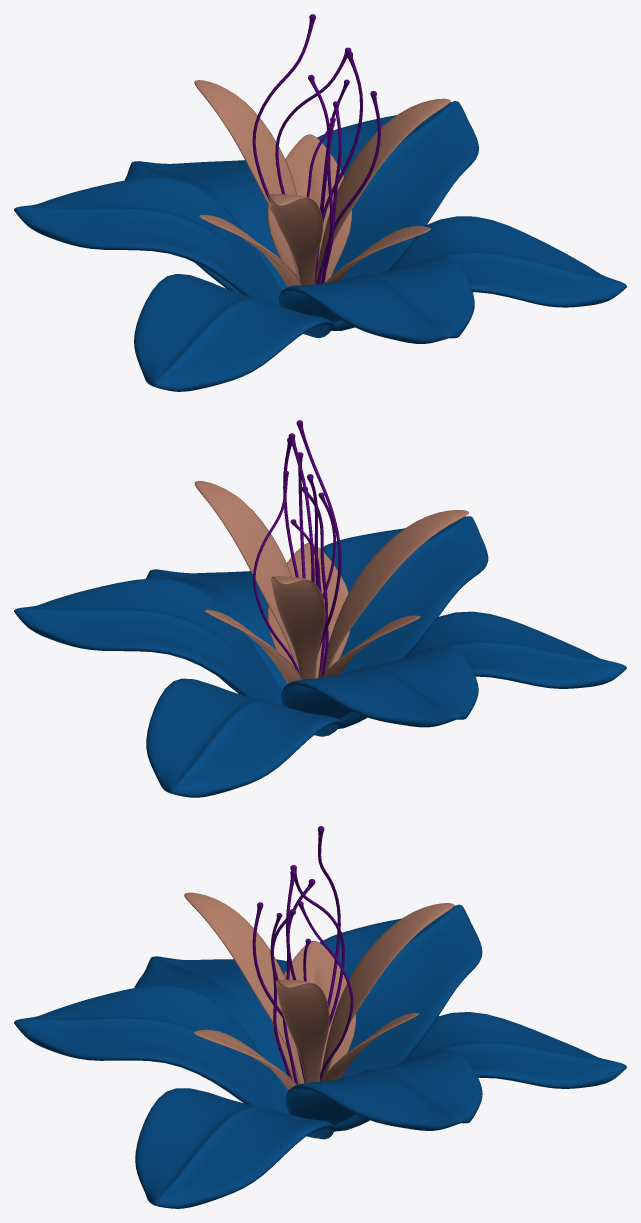
The model's file is flower.gltf.
3 views of the same model, one above another, from view 1: azimuth 30°, elevation 25°; view 2: azimuth 150°, elevation 25°; view 3: azimuth 270°, elevation 25° (orthographic).
Parts seen in each view (by area): view 1: Plane.007, Plane.006, Plane.003, Plane.004, Plane.005, Plane, Plane.002, Plane.010, Plane.001, Plane.011, Vert.001, Vert (+3 smaller); view 2: Plane.003, Plane, Plane.005, Plane.007, Plane.006, Plane.011, Plane.010, Plane.004, Plane.002, Plane.008, Vert, Vert.001 (+3 smaller); view 3: Plane.005, Plane.004, Plane.007, Plane.003, Plane, Plane.006, Plane.011, Plane.002, Plane.010, Plane.009, Vert.001, Vert (+3 smaller).
Part boxes in pixels (x1=…): Plane.007: x1=14, y1=177, x2=282, y2=306; Plane.006: x1=134, y1=274, x2=333, y2=391; Plane.003: x1=317, y1=101, x2=478, y2=280; Plane.004: x1=331, y1=216, x2=626, y2=330; Plane.005: x1=278, y1=257, x2=474, y2=343; Plane: x1=124, y1=160, x2=287, y2=293; Plane.002: x1=194, y1=80, x2=299, y2=278; Plane.010: x1=315, y1=98, x2=450, y2=284; Plane.001: x1=267, y1=134, x2=351, y2=282; Plane.011: x1=268, y1=194, x2=323, y2=285; Vert.001: x1=275, y1=47, x2=380, y2=284; Vert: x1=252, y1=14, x2=362, y2=282; Plane.003: x1=14, y1=578, x2=282, y2=705; Plane: x1=146, y1=678, x2=340, y2=797; Plane.005: x1=323, y1=516, x2=488, y2=673; Plane.007: x1=281, y1=645, x2=478, y2=727; Plane.006: x1=338, y1=611, x2=626, y2=728; Plane.011: x1=319, y1=510, x2=468, y2=678; Plane.010: x1=194, y1=481, x2=298, y2=669; Plane.004: x1=146, y1=569, x2=287, y2=694; Plane.002: x1=271, y1=576, x2=325, y2=679; Plane.008: x1=267, y1=543, x2=350, y2=678; Vert: x1=283, y1=420, x2=341, y2=651; Vert.001: x1=288, y1=433, x2=327, y2=678; Plane.005: x1=14, y1=985, x2=288, y2=1114; Plane.004: x1=135, y1=1088, x2=334, y2=1208; Plane.007: x1=319, y1=904, x2=482, y2=1077; Plane.003: x1=285, y1=1049, x2=482, y2=1130; Plane: x1=334, y1=1012, x2=626, y2=1131; Plane.006: x1=134, y1=956, x2=288, y2=1092; Plane.011: x1=184, y1=892, x2=304, y2=1083; Plane.002: x1=320, y1=903, x2=454, y2=1081; Plane.010: x1=275, y1=979, x2=329, y2=1083; Plane.009: x1=272, y1=941, x2=355, y2=1084; Vert.001: x1=252, y1=865, x2=344, y2=1083; Vert: x1=283, y1=826, x2=340, y2=1084.
Size of the model in its own units: 6.19 by 3.81 by 6.95.
